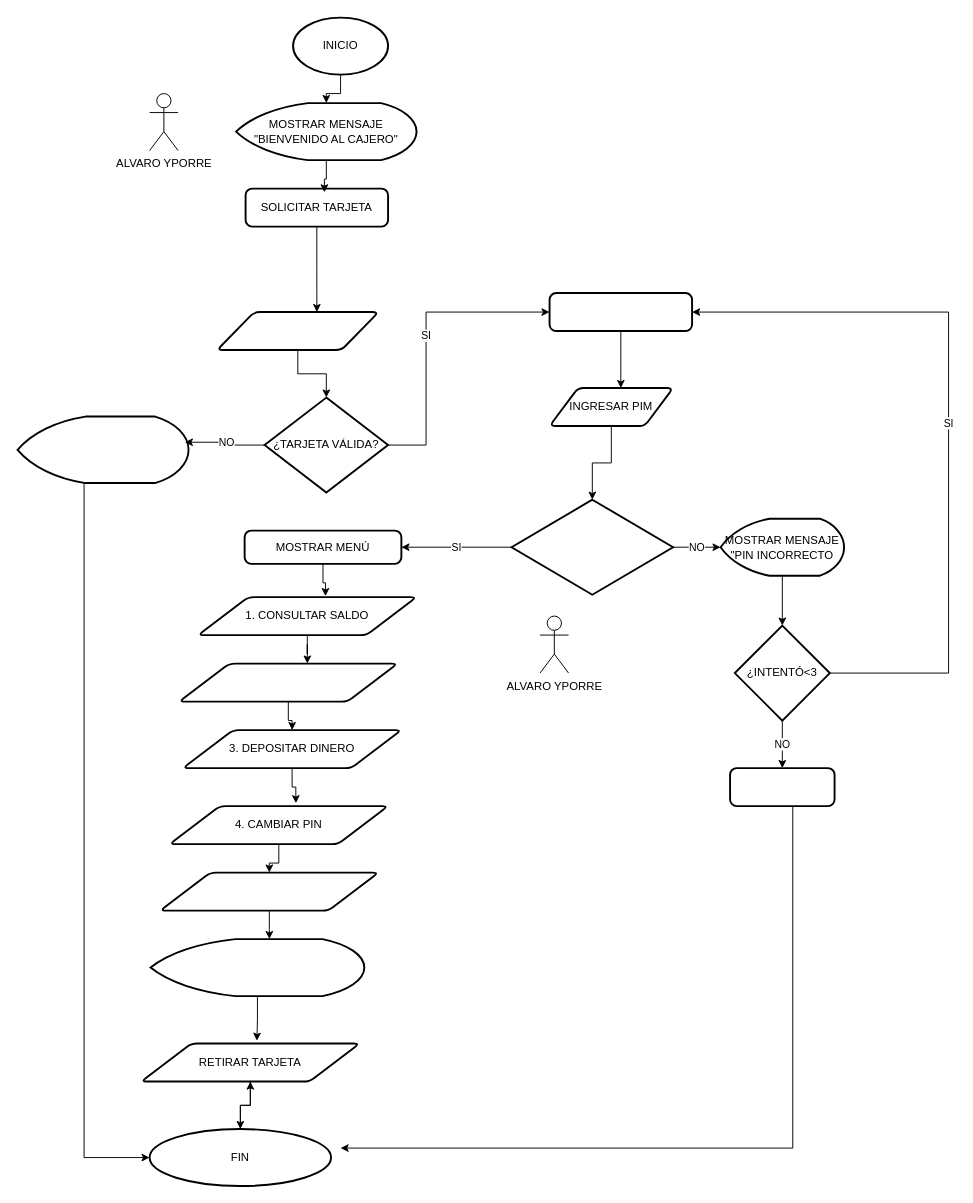
Some shapes in this 973 by 1203 pixel diagram are drawn without their labels. Each missing label, with the box of its shape:
2. RETIRAR DINERO: (178, 662, 398, 702)
5. SALIR: (159, 871, 379, 911)
INSERTAR TARJETA: (216, 311, 379, 351)
MOSTRAR MENSAJE "GRACIAS POR USAS CAJERO": (149, 938, 365, 997)
MOSTRAR MENSAJE "TARJETA NO VÁLIDA": (16, 415, 189, 484)
RETENER TARJETA: (729, 767, 835, 807)
SOLICITAR PIN: (548, 292, 693, 332)
¿FIN CORRECTO?: (510, 498, 674, 595)
